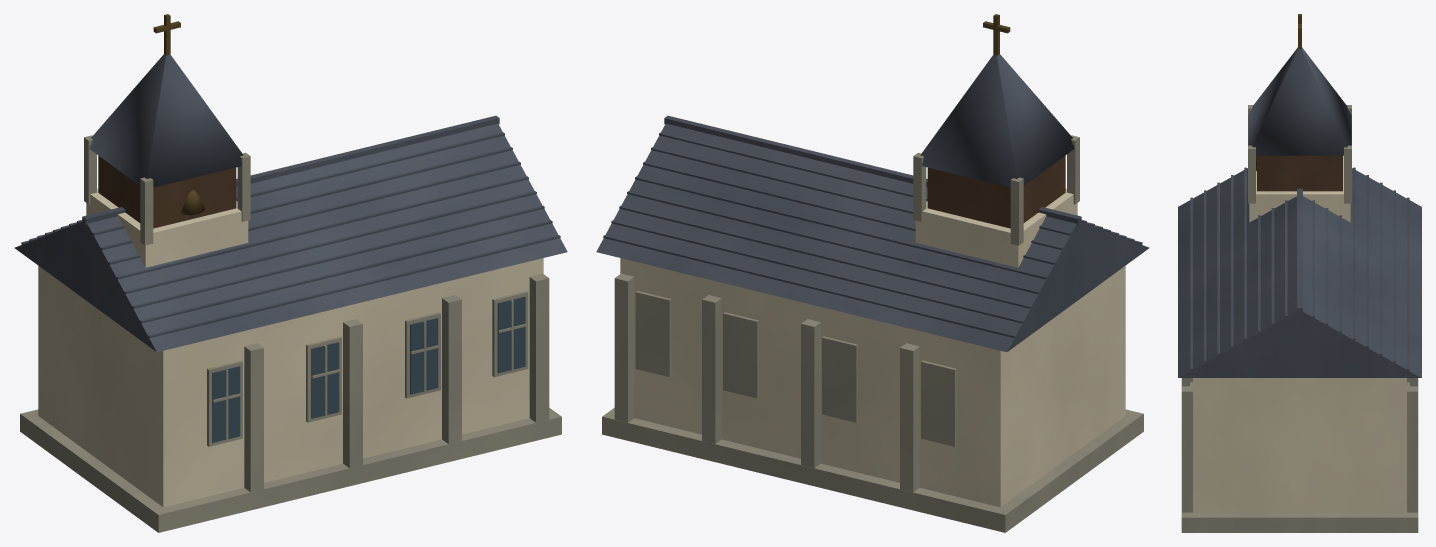
File: chapel.glb
3 views of the same model, side by side, from view 1: azimuth 30°, elevation 25°; view 2: azimuth 150°, elevation 25°; view 3: azimuth 270°, elevation 25° (orthographic). The views are drawn at different scales.
Visible parts, largest first — view 1: chapel; view 2: chapel; view 3: chapel.
Part boxes in pixels (box(x1,y1,x2,y2)): chapel: box(14, 14, 567, 532); chapel: box(596, 14, 1149, 532); chapel: box(1178, 14, 1421, 532).
Size of the model in its own units: 10.88 by 11.25 by 6.5.
Materials: 1 (1 with a texture image).
